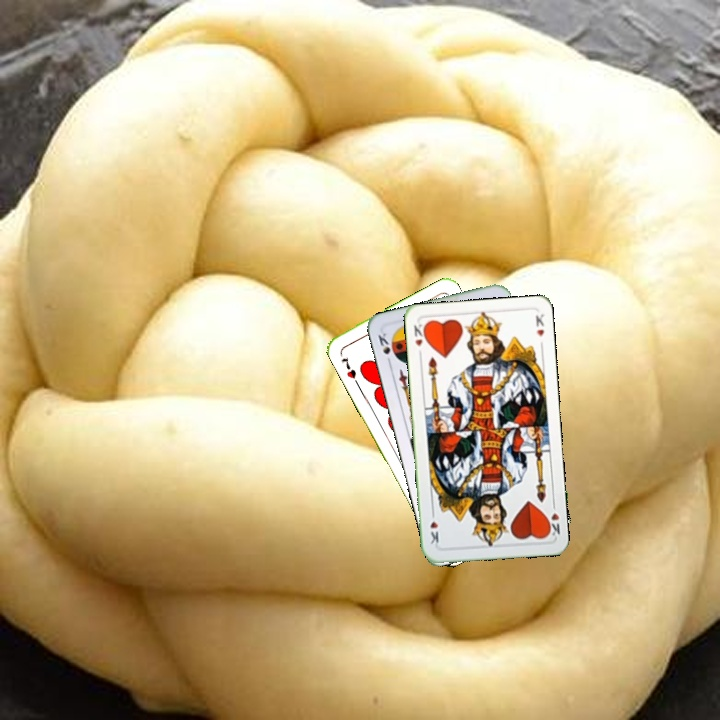H7: (337, 352, 359, 381)
HK: (542, 498, 563, 539), (410, 318, 429, 359)
SK: (374, 329, 394, 368)
